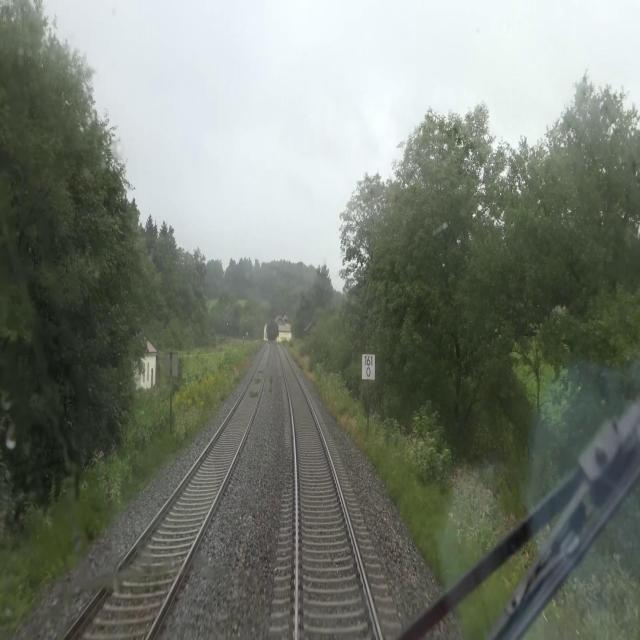rail-track: (67, 345, 268, 639), (281, 350, 376, 639)
